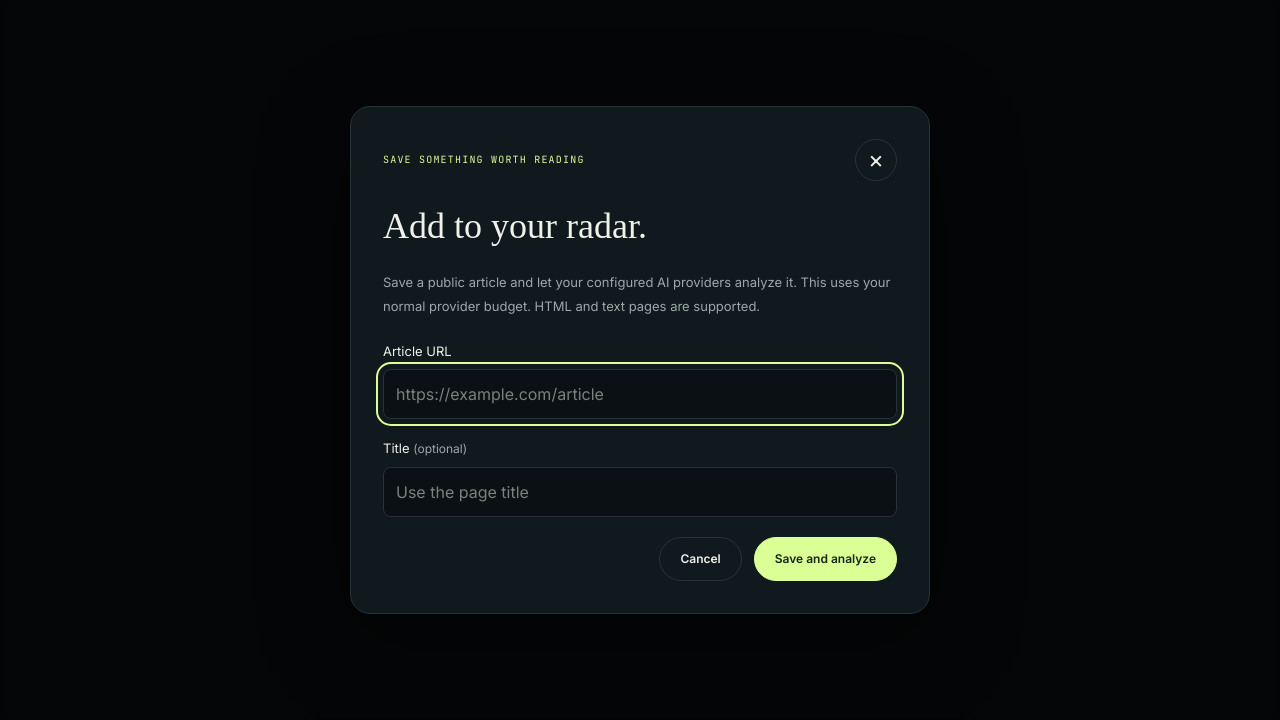
blocks unsafe URLs before calling the backend
Type "https://user:pass@example.org" into the field labelled "Article URL" at (640, 394), box [383,369,897,419]
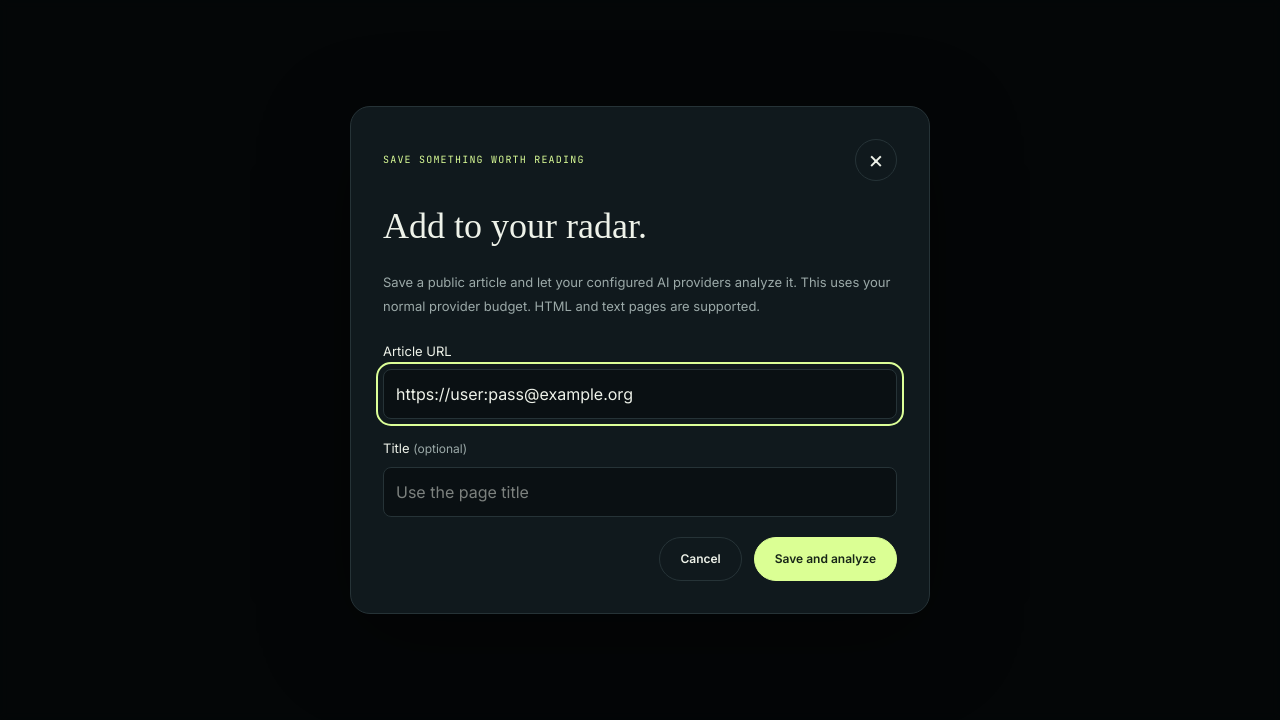
Click the button "Save and analyze" at (825, 559), box [754,537,897,581]
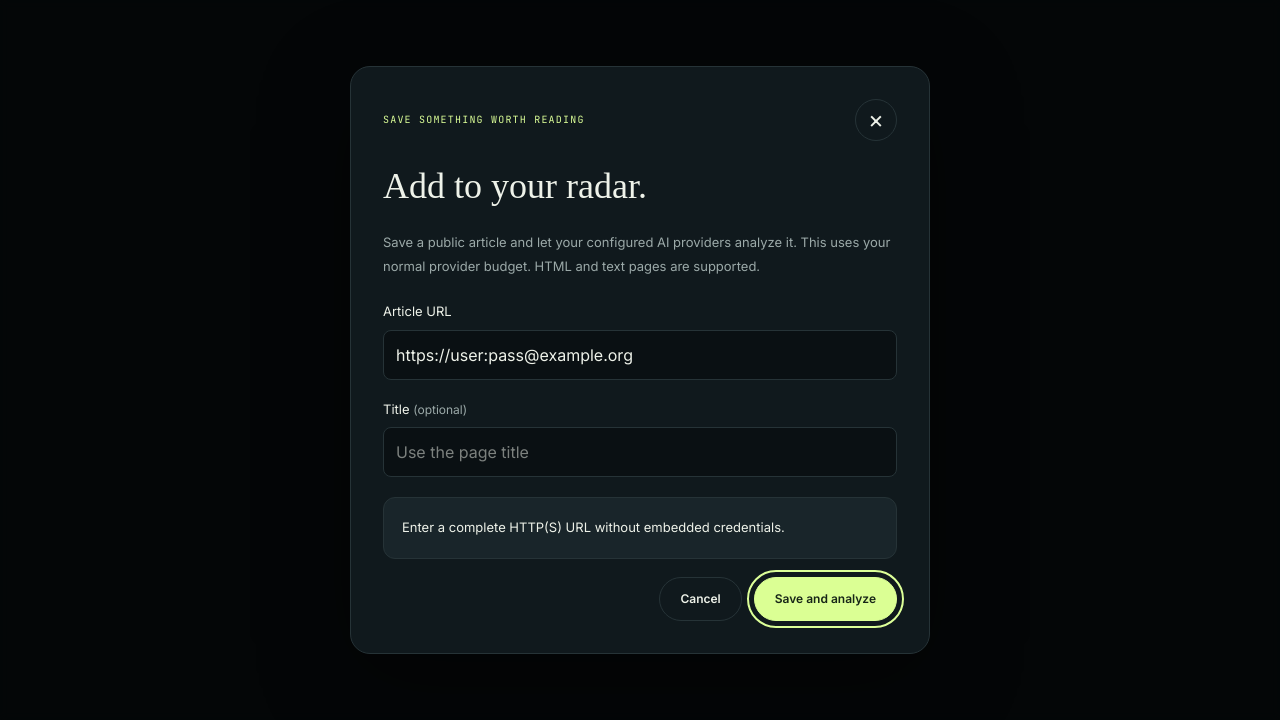
Now the message shows "without embedded credentials", box [402,519,785,535]
